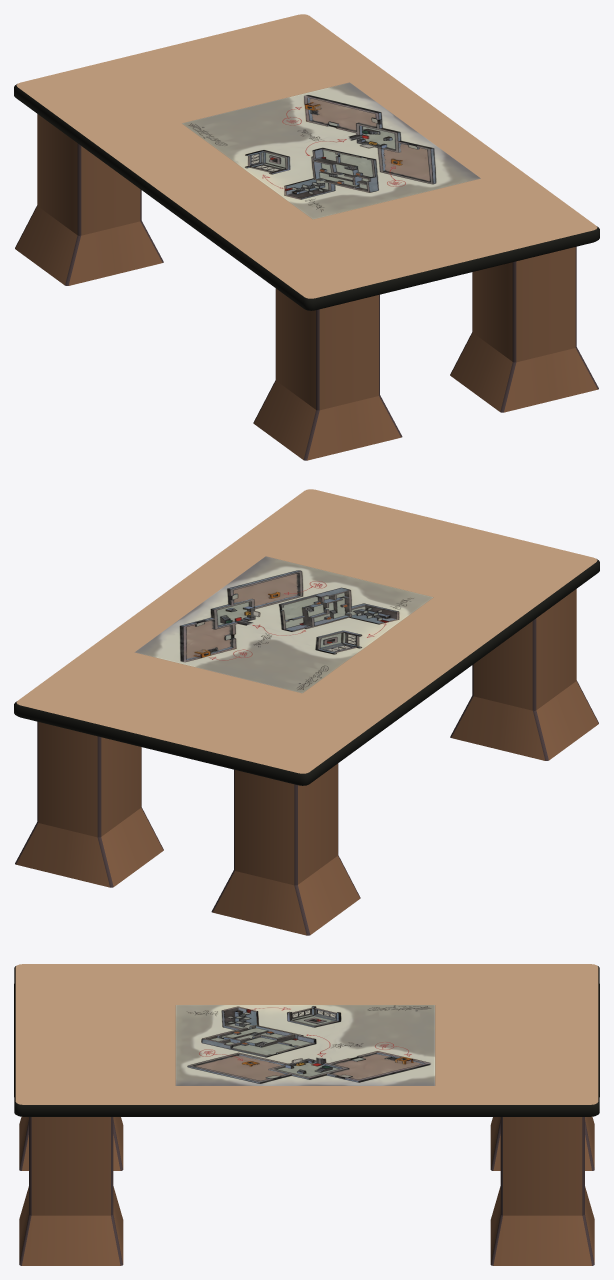
The model's file is OT_180_table_var1.glb.
The picture shows the model from 3 angles, top to bottom: view 1: azimuth 30°, elevation 25°; view 2: azimuth 150°, elevation 25°; view 3: azimuth 270°, elevation 25°; orthographic projection.
Parts seen in each view (by area): view 1: table, legs, map; view 2: table, legs, map; view 3: table, legs, map.
Boxes of the visible parts, x1=… form: table: x1=14, y1=14, x2=599, y2=310; legs: x1=15, y1=114, x2=598, y2=460; map: x1=182, y1=82, x2=480, y2=219; table: x1=14, y1=489, x2=599, y2=785; legs: x1=15, y1=589, x2=598, y2=935; map: x1=134, y1=556, x2=433, y2=693; table: x1=14, y1=964, x2=599, y2=1116; legs: x1=19, y1=1116, x2=594, y2=1265; map: x1=175, y1=1005, x2=435, y2=1085.
Size of the model in its own units: 2.14 by 1.13 by 3.73.
5 materials, 1 textured.
